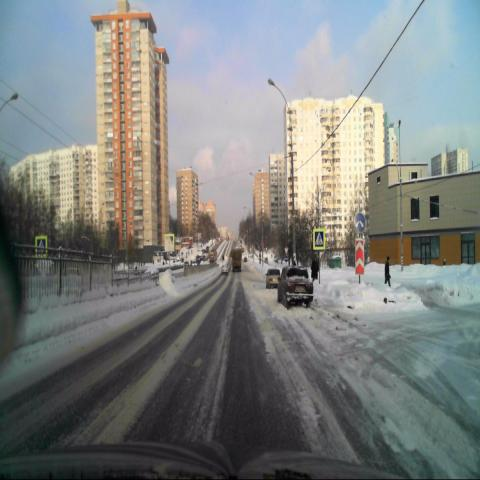4_2_3: (353, 211, 365, 234)
